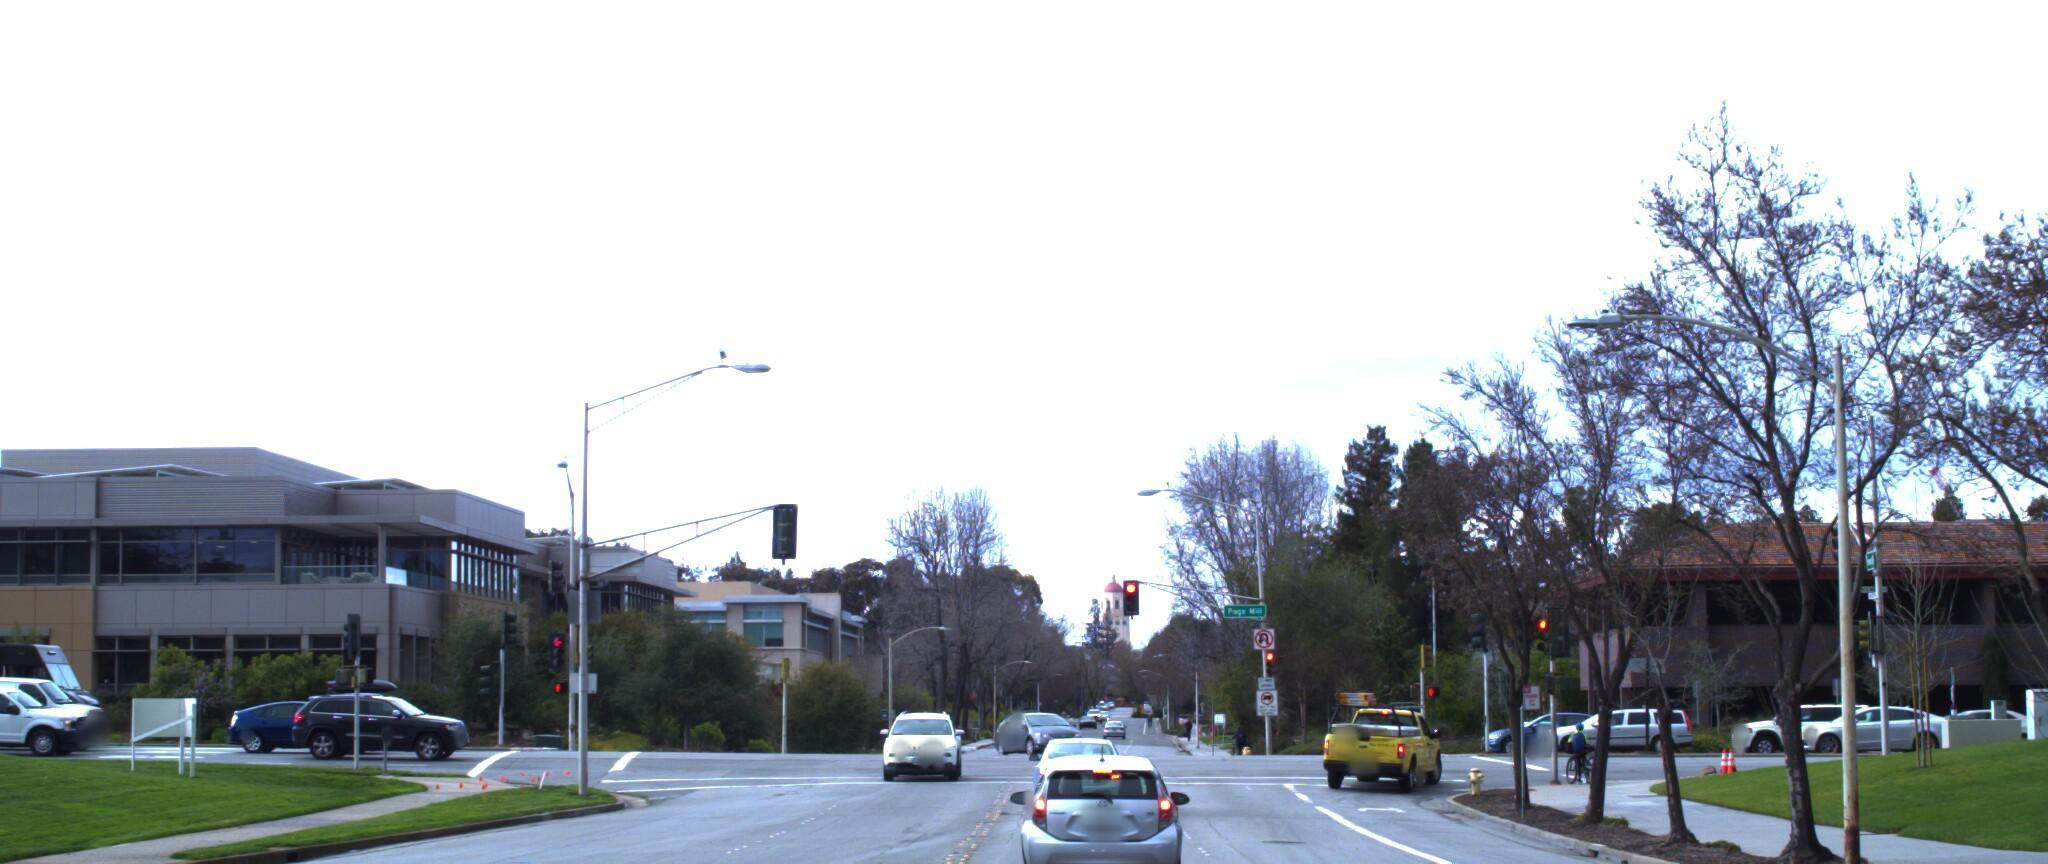bicycle: (1540, 707, 1603, 773)
car: (1014, 736, 1196, 864), (289, 680, 490, 750), (1311, 696, 1446, 797), (883, 710, 970, 783)
